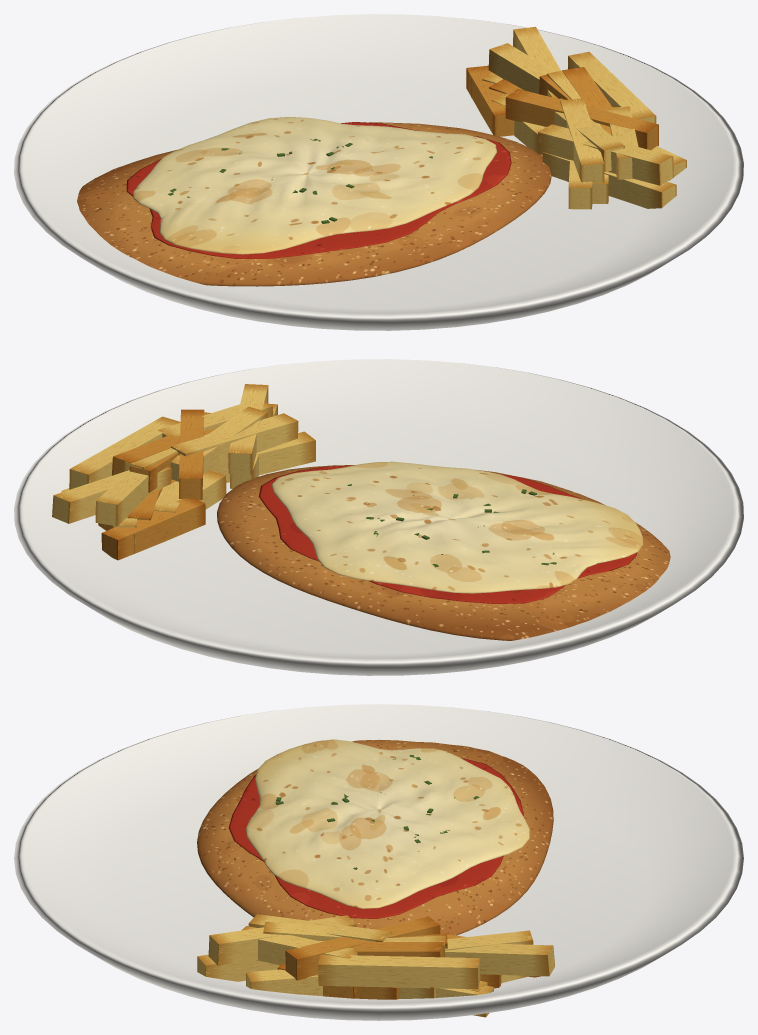
File: milanesa.glb
3 renders of one model, top to bottom at view 1: azimuth 30°, elevation 25°; view 2: azimuth 150°, elevation 25°; view 3: azimuth 270°, elevation 25°, orthographic.
Bounding box in the file's own units: 0.28 × 0.0282 × 0.28.
Materials: 9 (7 with a texture image).
